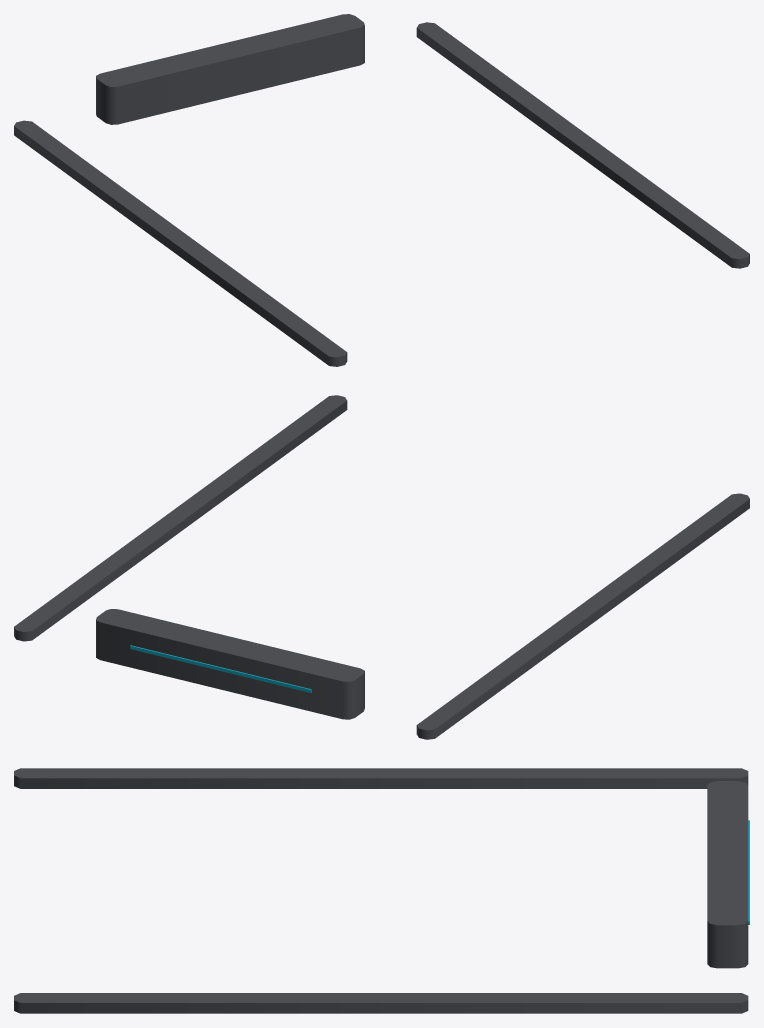
The model's file is c3_mount.obj.
The picture shows the model from 3 angles, top to bottom: view 1: azimuth 30°, elevation 25°; view 2: azimuth 150°, elevation 25°; view 3: azimuth 270°, elevation 25°; orthographic projection. The views are drawn at different scales.
Parts seen in each view (by area): view 1: c3_mount; view 2: c3_mount; view 3: c3_mount.
Part boxes in pixels (x1=…): c3_mount: x1=14, y1=14, x2=749, y2=366; c3_mount: x1=14, y1=395, x2=749, y2=739; c3_mount: x1=14, y1=768, x2=749, y2=1013.
Bounding box in the file's own units: 1.63 × 0.14 × 2.16.
